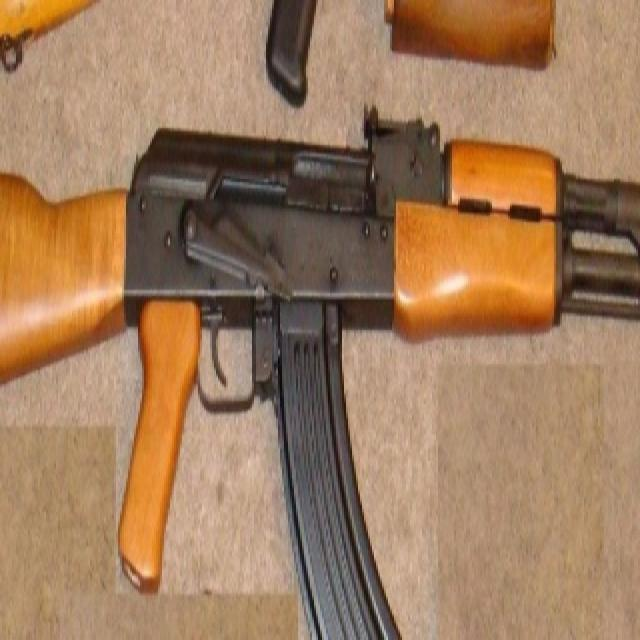weapon: (0, 90, 638, 610)
